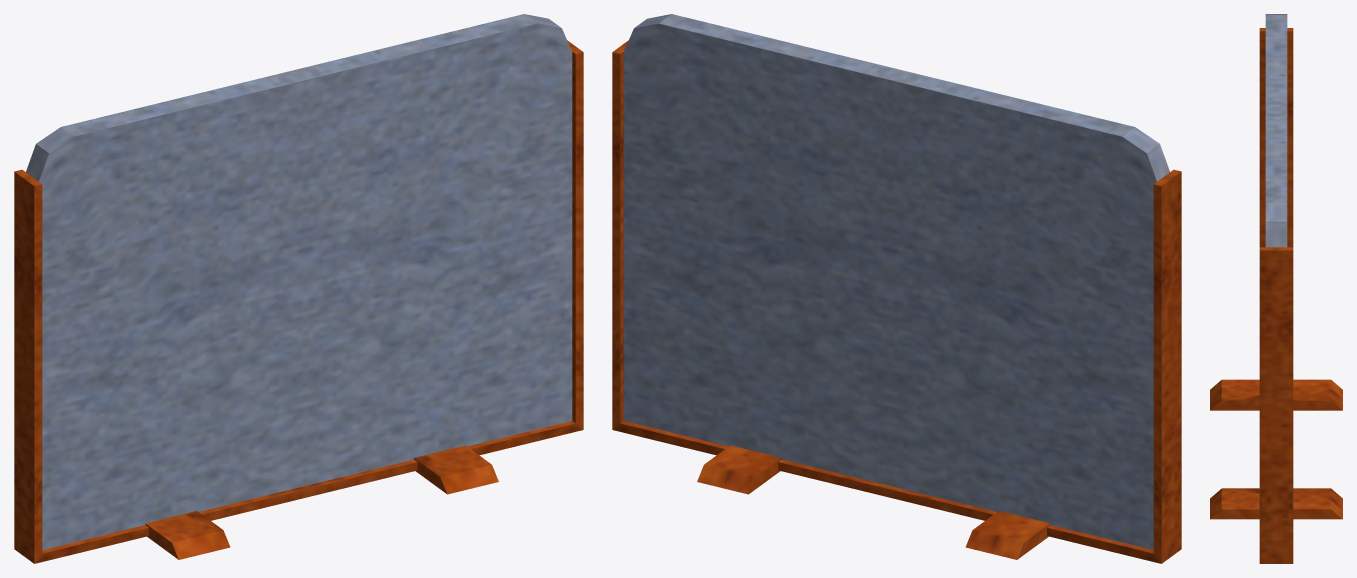
The model's file is divider_veneer_blue_low_half.obj.
3 views of the same model, side by side, from view 1: azimuth 30°, elevation 25°; view 2: azimuth 150°, elevation 25°; view 3: azimuth 270°, elevation 25° (orthographic). The views are drawn at different scales.
Parts seen in each view (by area): view 1: divider_veneer_blue_low_half; view 2: divider_veneer_blue_low_half; view 3: divider_veneer_blue_low_half.
Boxes of the visible parts, x1,y1,x2,y2 form: divider_veneer_blue_low_half: [14, 14, 583, 563]; divider_veneer_blue_low_half: [612, 14, 1181, 563]; divider_veneer_blue_low_half: [1210, 14, 1342, 563].
Bounding box in the file's own units: 2.07 × 1.5 × 0.523.
